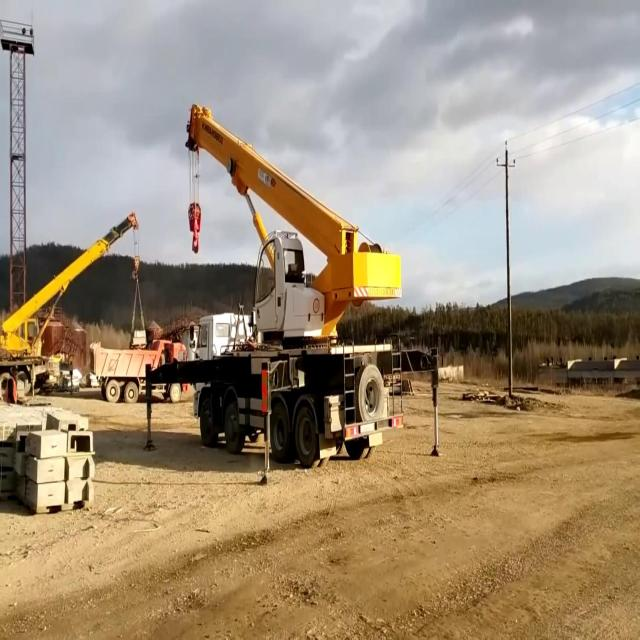crane: (145, 99, 445, 485), (0, 208, 141, 399)
